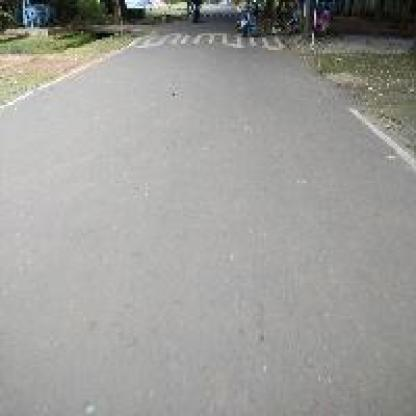Speed Bump: (133, 31, 235, 48)
